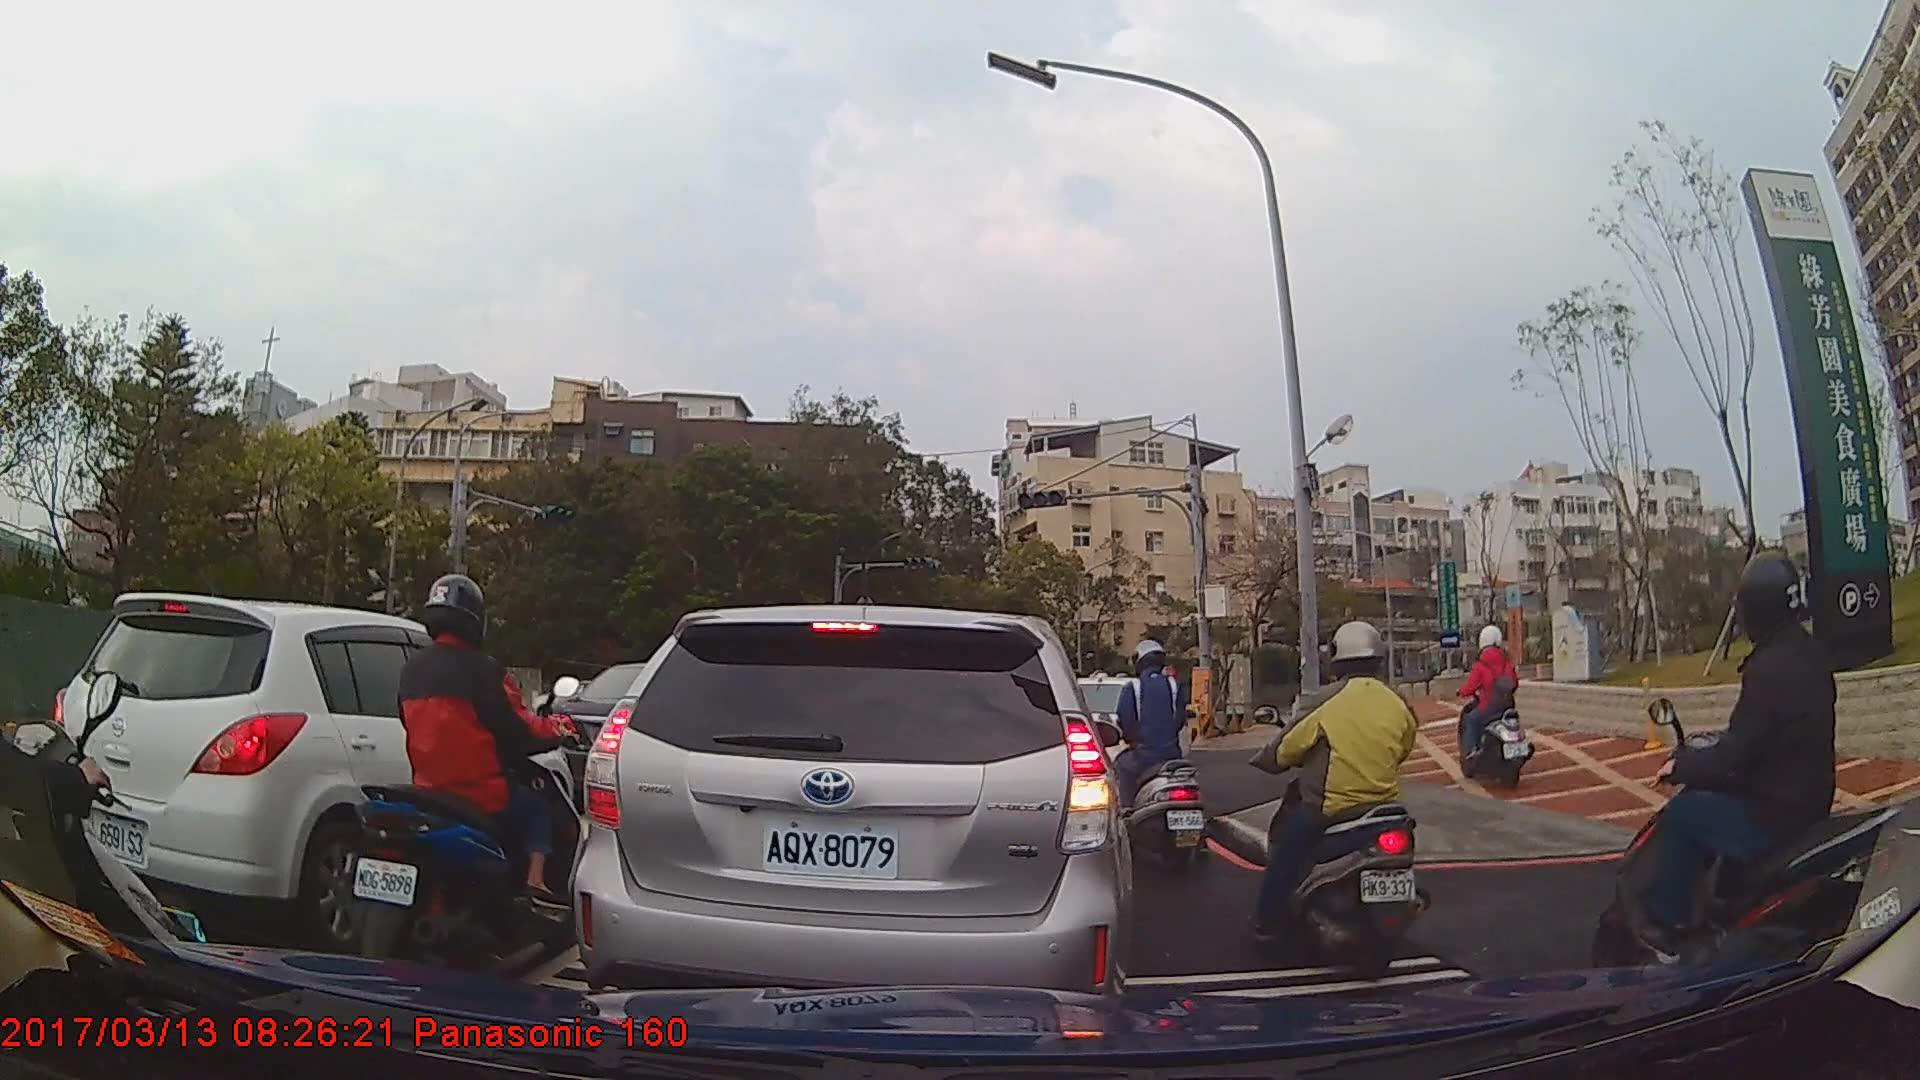rider: (1604, 548, 1910, 1023), (350, 568, 584, 984), (1247, 618, 1436, 966), (1106, 641, 1214, 868), (1455, 624, 1534, 790)
vehicle: (570, 602, 1134, 1031), (45, 591, 577, 954)
